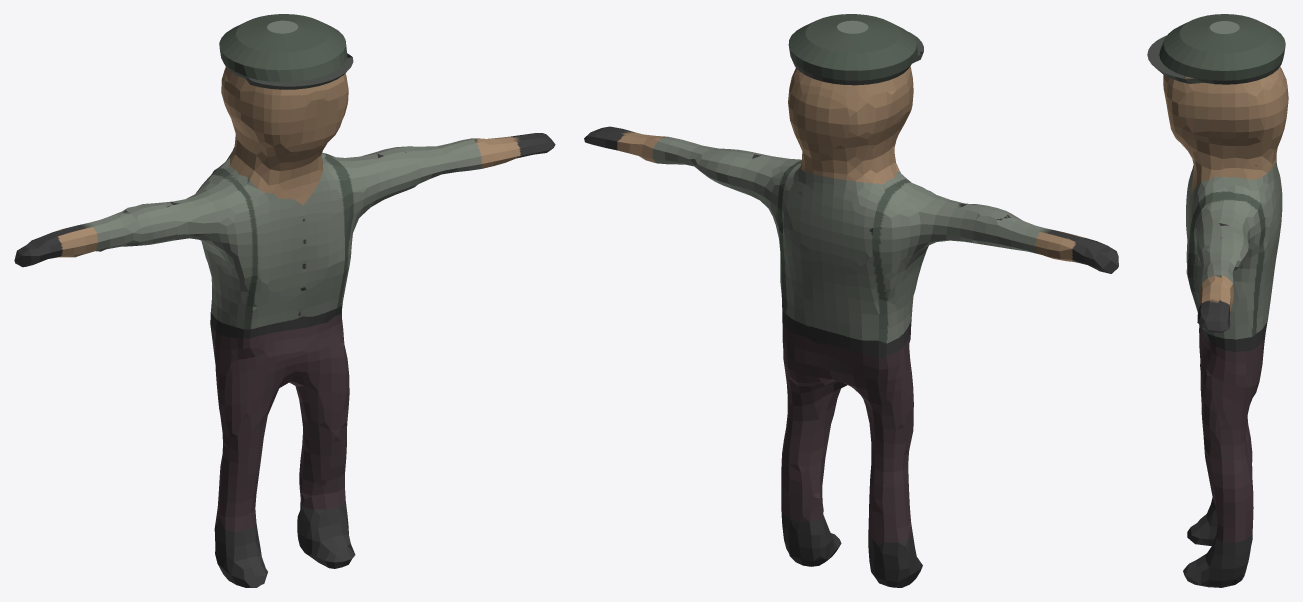
File: gang.fbx
The picture shows the model from 3 angles, left to right: view 1: azimuth 30°, elevation 25°; view 2: azimuth 150°, elevation 25°; view 3: azimuth 270°, elevation 25°; orthographic projection.
Visible parts, largest first — view 1: Gang_0; view 2: Gang_0; view 3: Gang_0.
Boxes of the visible parts, bbox=[...] form: Gang_0: bbox=[14, 14, 555, 587]; Gang_0: bbox=[584, 14, 1118, 587]; Gang_0: bbox=[1147, 14, 1288, 587].
Size of the model in its own units: 529 by 512 by 122.
1 material, 1 textured.
